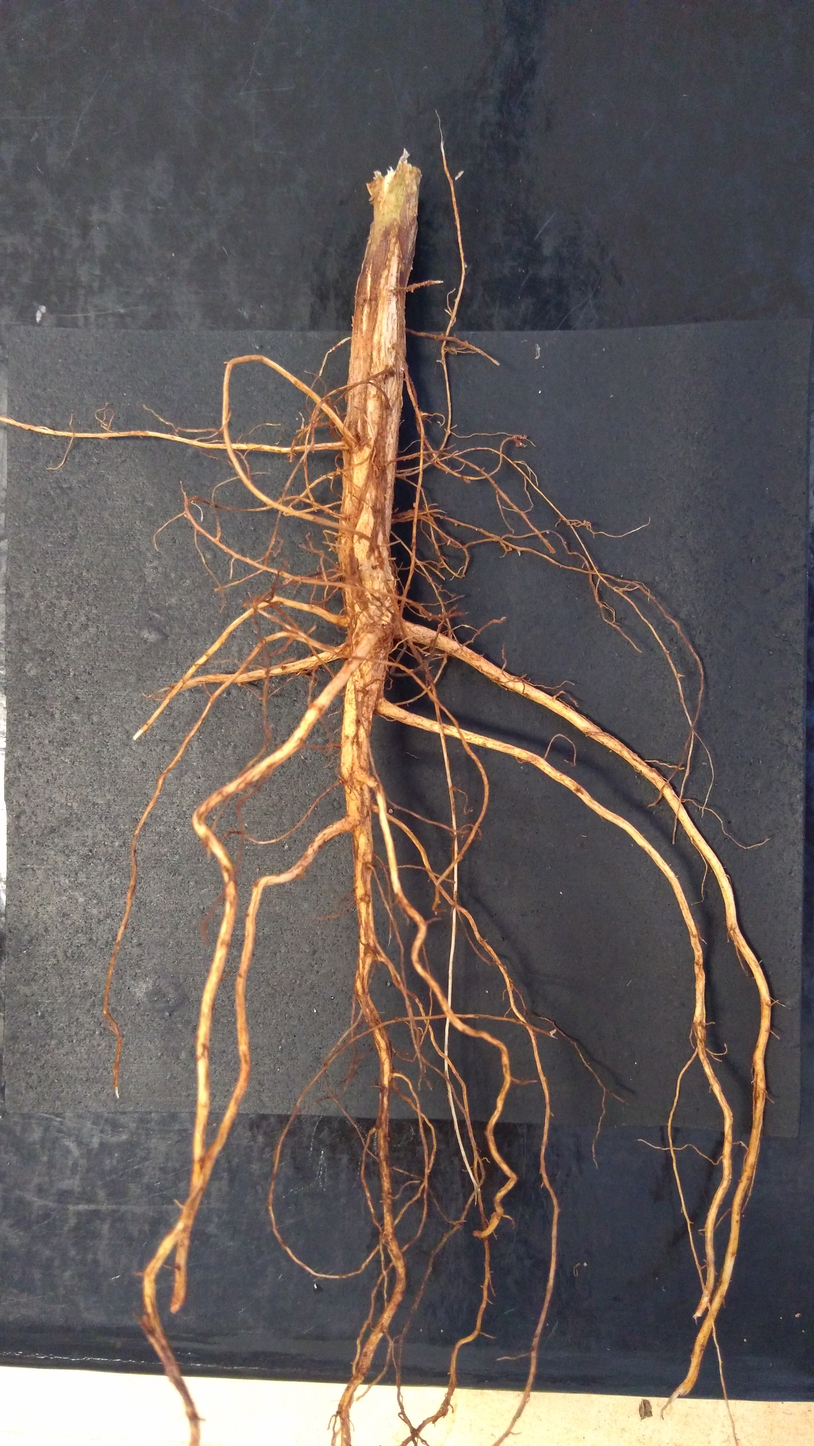nodule: (342, 644, 354, 658), (388, 808, 394, 814), (412, 502, 417, 508)
